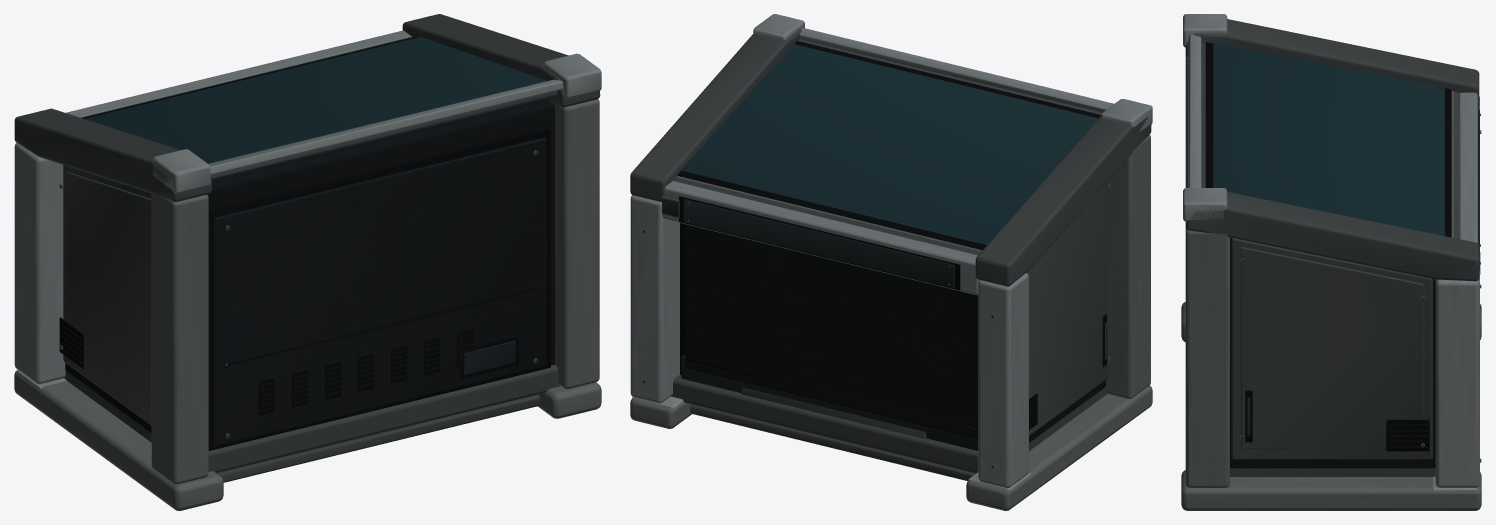
The model's file is TouchConsole_LOD0.fbx.
3 views of the same model, side by side, from view 1: azimuth 30°, elevation 25°; view 2: azimuth 150°, elevation 25°; view 3: azimuth 270°, elevation 25° (orthographic). The views are drawn at different scales.
Parts seen in each view (by area): view 1: ServicePanels, AlloyFrame, Chassis, TouchGlass; view 2: AlloyFrame, ServicePanels, TouchGlass, Chassis, FrontPlaque; view 3: AlloyFrame, ServicePanels, TouchGlass, Chassis.
Boxes of the visible parts, x1,y1,x2,y2 form: ServicePanels: (59, 36, 550, 450); AlloyFrame: (14, 14, 601, 510); Chassis: (64, 36, 560, 482); TouchGlass: (84, 37, 546, 163); AlloyFrame: (630, 14, 1152, 510); ServicePanels: (662, 41, 1108, 450); TouchGlass: (681, 44, 1097, 245); Chassis: (671, 39, 1106, 480); FrontPlaque: (662, 198, 954, 288); AlloyFrame: (1181, 14, 1481, 510); ServicePanels: (1205, 42, 1479, 459); TouchGlass: (1213, 43, 1444, 235); Chassis: (1201, 43, 1459, 476).
Bounding box in the file's own units: 1.5 × 1.14 × 1.
